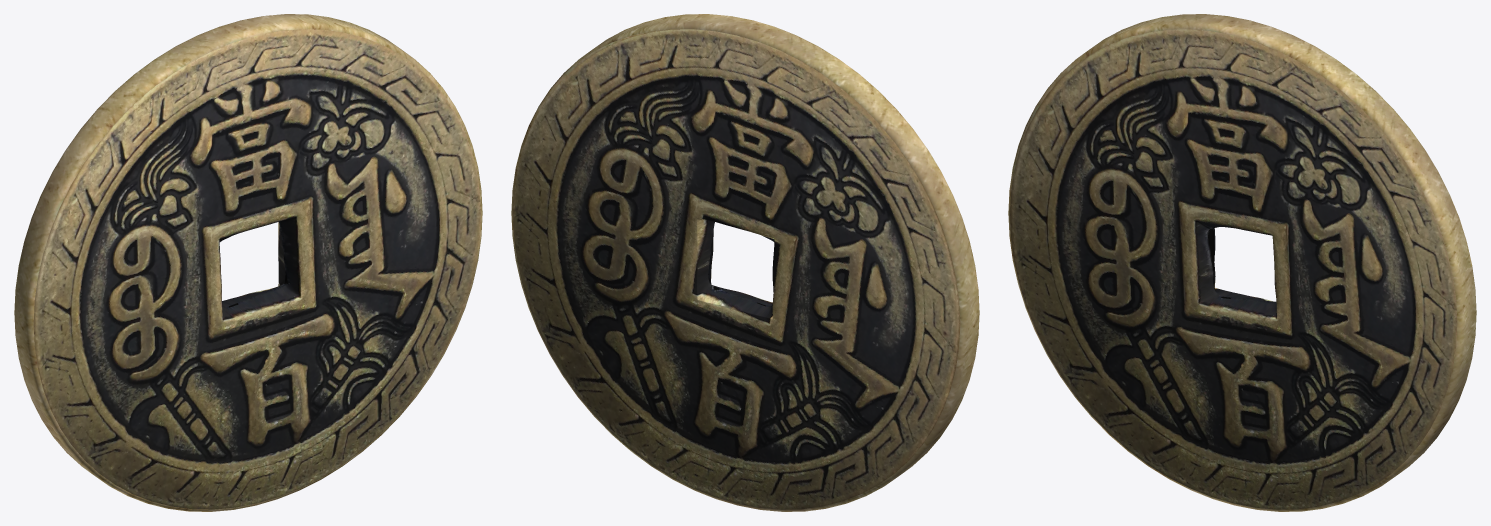
The model's file is Coin.fbx.
The picture shows the model from 3 angles, left to right: view 1: azimuth 30°, elevation 25°; view 2: azimuth 150°, elevation 25°; view 3: azimuth 330°, elevation 25°; orthographic projection.
Visible parts, largest first — view 1: Coin; view 2: Coin; view 3: Coin.
Part boxes in pixels (<box>): Coin: <box>14,14,482,511</box>; Coin: <box>511,14,979,511</box>; Coin: <box>1008,14,1476,511</box>.
Size of the model in its own units: 33.53 by 33.53 by 2.33.
2 materials, 2 textured.
